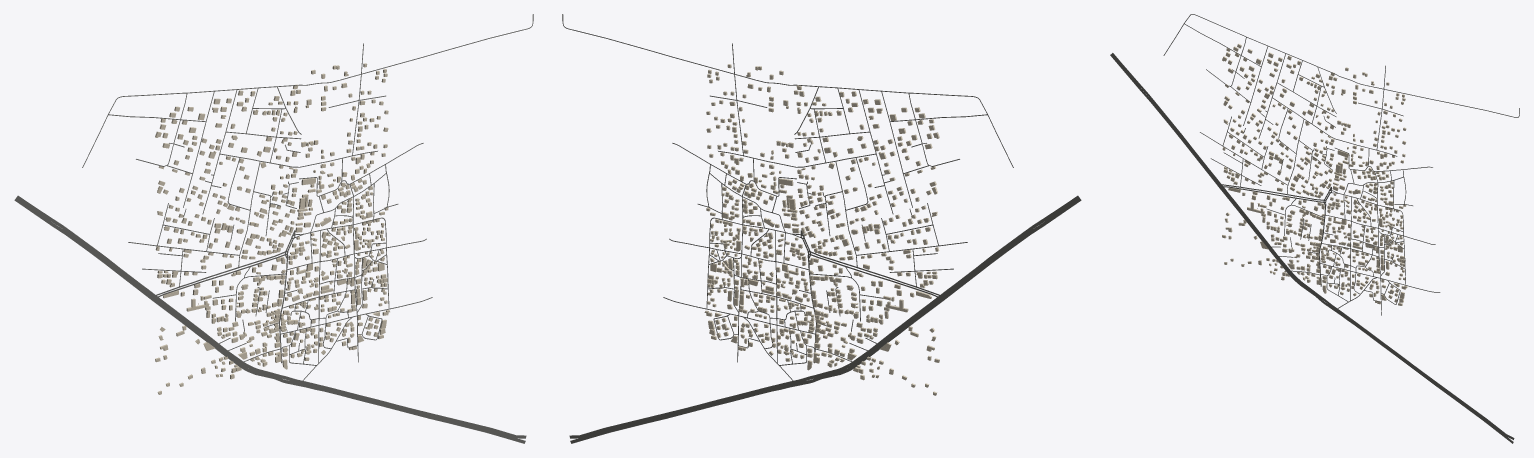
The model's file is irbid_3590_3253.glb.
The picture shows the model from 3 angles, left to right: view 1: azimuth 30°, elevation 25°; view 2: azimuth 150°, elevation 25°; view 3: azimuth 330°, elevation 25°; orthographic projection. The views are drawn at different scales.
Parts seen in each view (by area): view 1: Road 10, Road 10.001, Road .017; view 2: Road 10, Road 10.001, Road .017; view 3: Road 10, Road 10.001, Road .017.
Part boxes in pixels (box(x1,y1,x2,y2)): Road 10: box(14, 198, 525, 443); Road 10.001: box(16, 195, 526, 438); Road .017: box(82, 14, 533, 167); Road 10: box(570, 198, 1081, 443); Road 10.001: box(569, 195, 1079, 438); Road .017: box(562, 14, 1013, 167); Road 10: box(1110, 54, 1513, 443); Road 10.001: box(1112, 53, 1514, 439); Road .017: box(1163, 14, 1519, 117).
Bounding box in the file's own units: 2112 × 1734 × 8.7.
